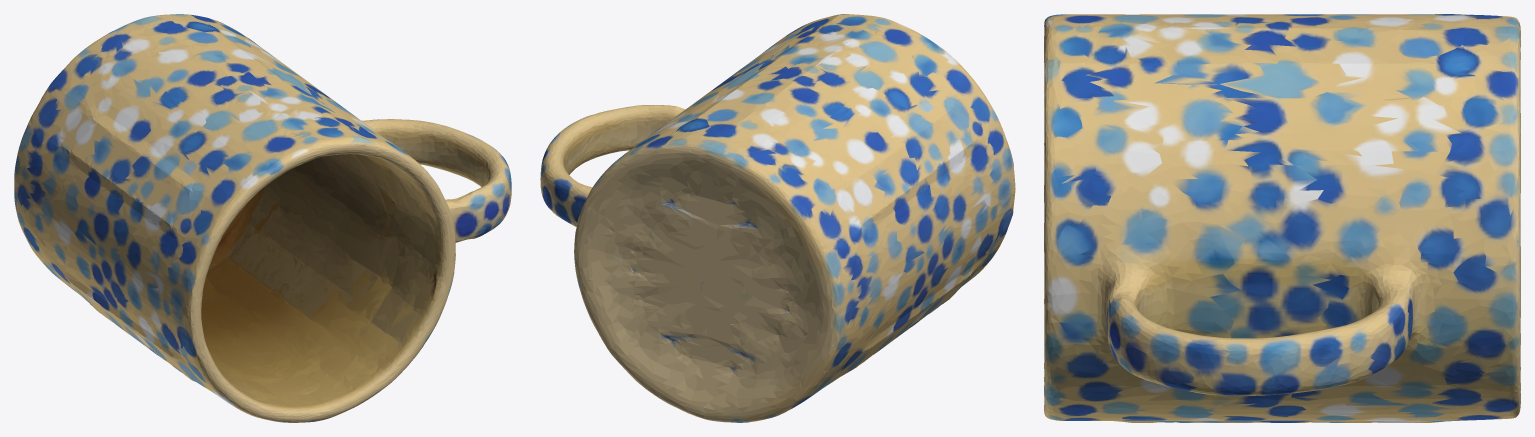
File: cup_visual.obj
3 renders of one model, left to right at view 1: azimuth 30°, elevation 25°; view 2: azimuth 150°, elevation 25°; view 3: azimuth 270°, elevation 25°, orthographic. The views are drawn at different scales.
Size of the model in its own units: 0.1684 by 0.1187 by 0.1365.
1 material, 1 textured.
